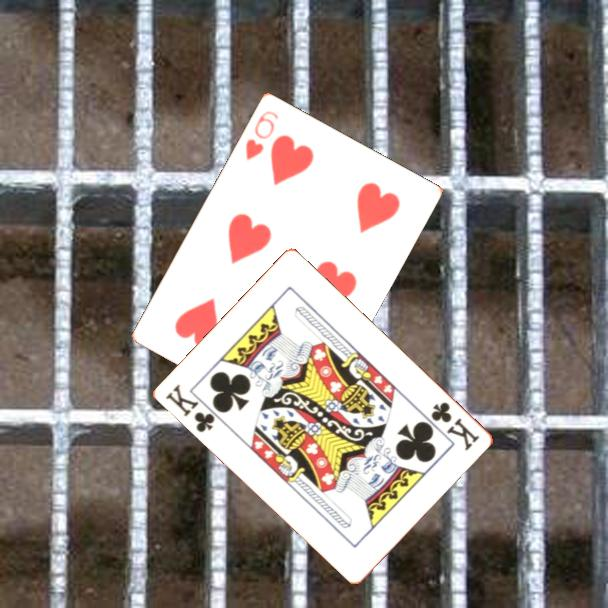c13: (428, 398, 483, 454), (162, 380, 218, 435)
h06: (242, 107, 281, 163)
